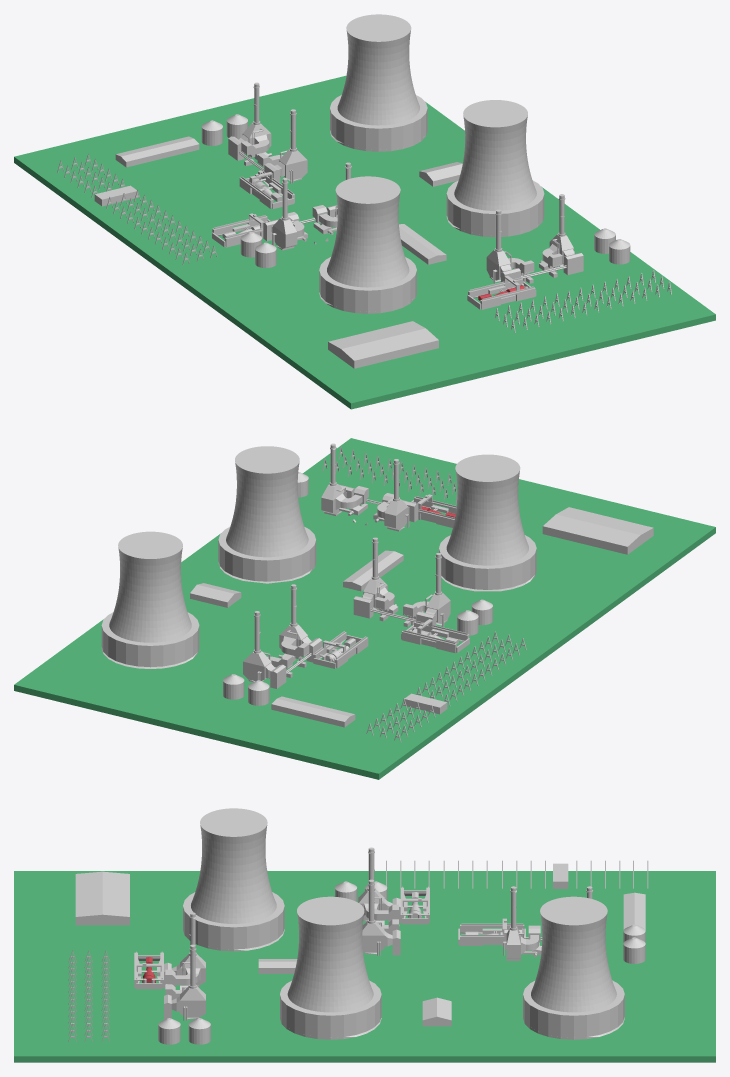
Rendered from CCPPv9.glb.
3 renders of one model, top to bottom at view 1: azimuth 30°, elevation 25°; view 2: azimuth 150°, elevation 25°; view 3: azimuth 270°, elevation 25°, orthographic. The views are drawn at different scales.
Bounding box in the file's own units: 2.5 × 0.7348 × 4.
